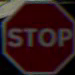Stop: (1, 11, 69, 59)
